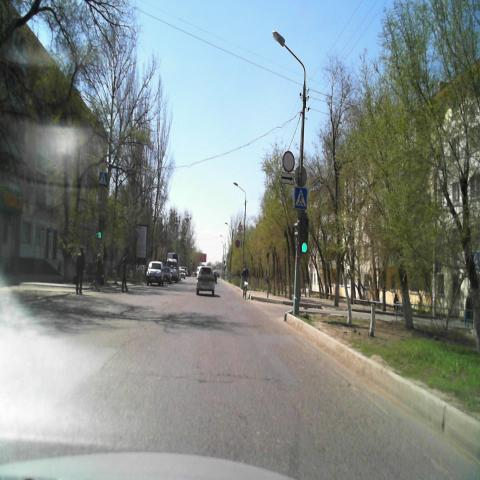3_2: (282, 151, 295, 172)
8_3_1: (281, 173, 294, 185)
